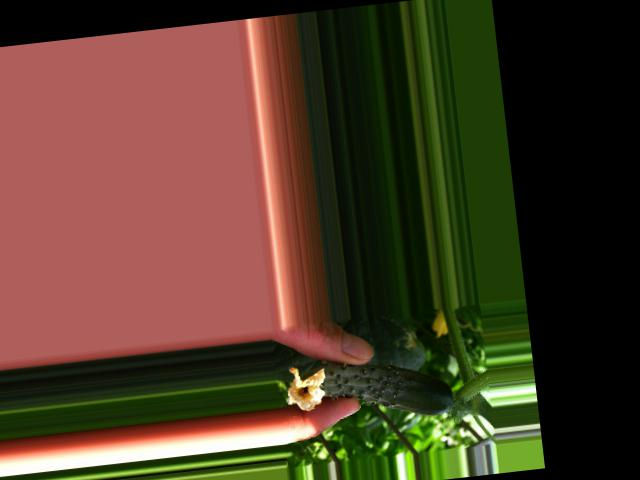cucumber: (284, 349, 455, 430)
